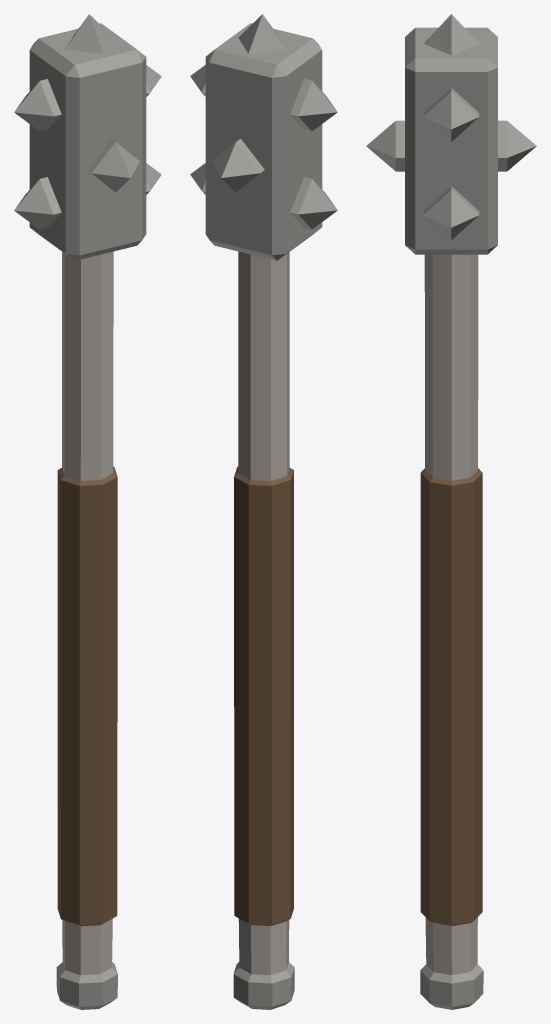
Rendered from SM_pwe_medieval_mace_02.fbx.
3 renders of one model, left to right at view 1: azimuth 30°, elevation 25°; view 2: azimuth 150°, elevation 25°; view 3: azimuth 270°, elevation 25°, orthographic.
Parts seen in each view (by area): view 1: SM_pwe_medieval_mace_02; view 2: SM_pwe_medieval_mace_02; view 3: SM_pwe_medieval_mace_02.
Part boxes in pixels (<box>): SM_pwe_medieval_mace_02: <box>14,14,161,1009</box>; SM_pwe_medieval_mace_02: <box>190,14,337,1009</box>; SM_pwe_medieval_mace_02: <box>366,14,536,1009</box>.
Bounding box in the file's own units: 13.24 × 84.36 × 13.24.
